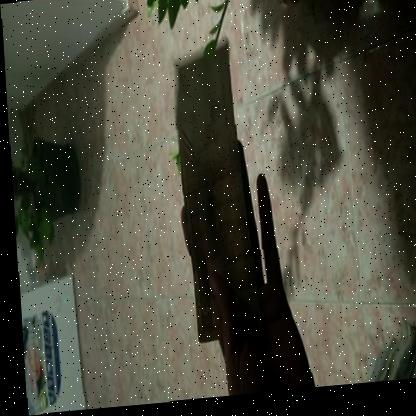five-back-vef: (170, 42, 258, 347)
